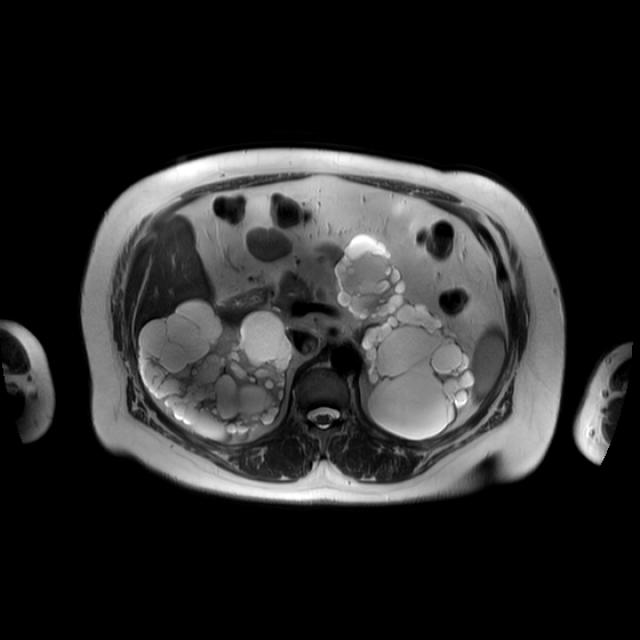sag: (138, 300, 290, 437)
sol: (333, 236, 474, 441)
